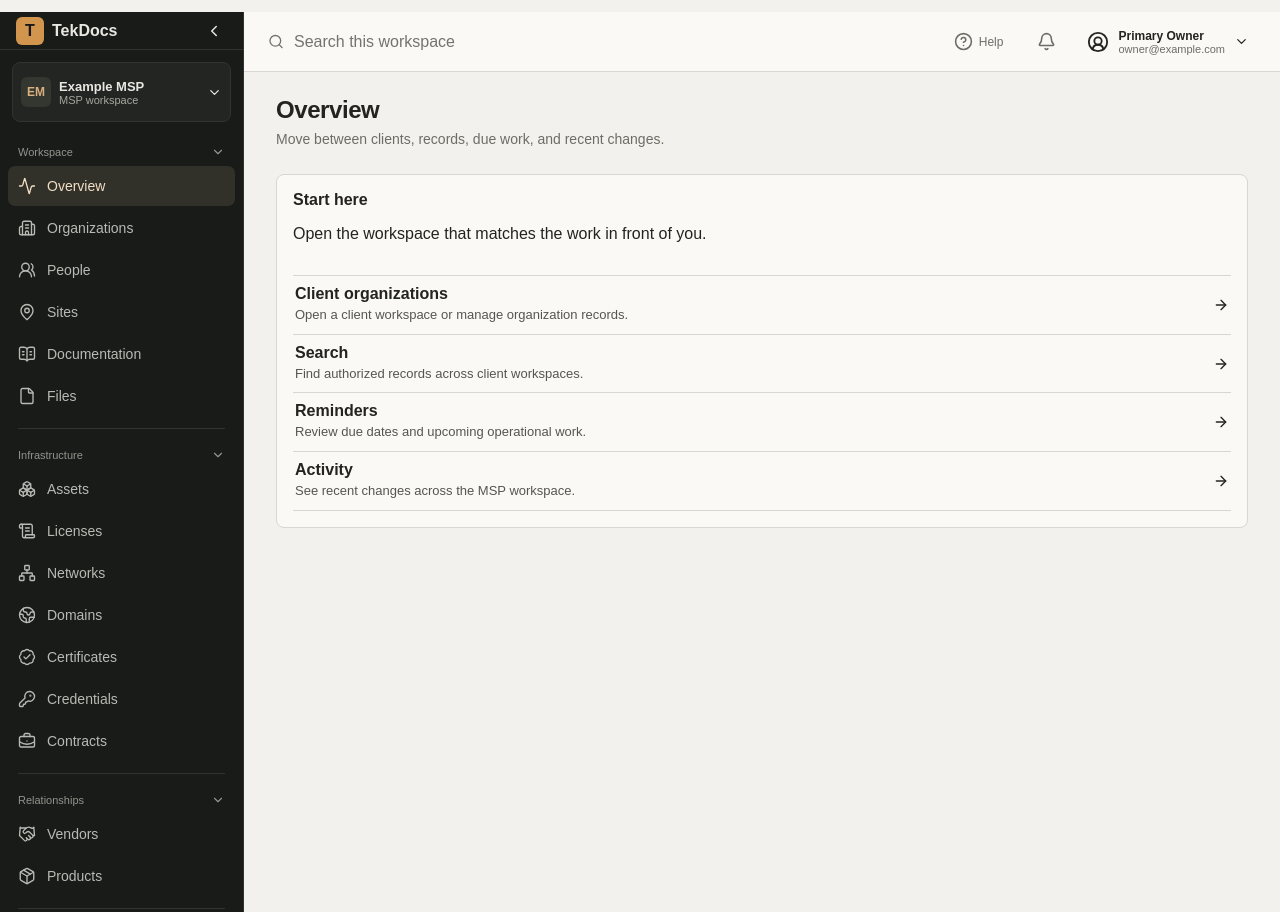
Test case: application shell › opens owner staff administration from the profile menu
The width and height of the screenshot is (1280, 912).
Click the button with aria-label "Account menu for Primary Owner".
click(1168, 42)  # box 1080,24 -> 1256,60
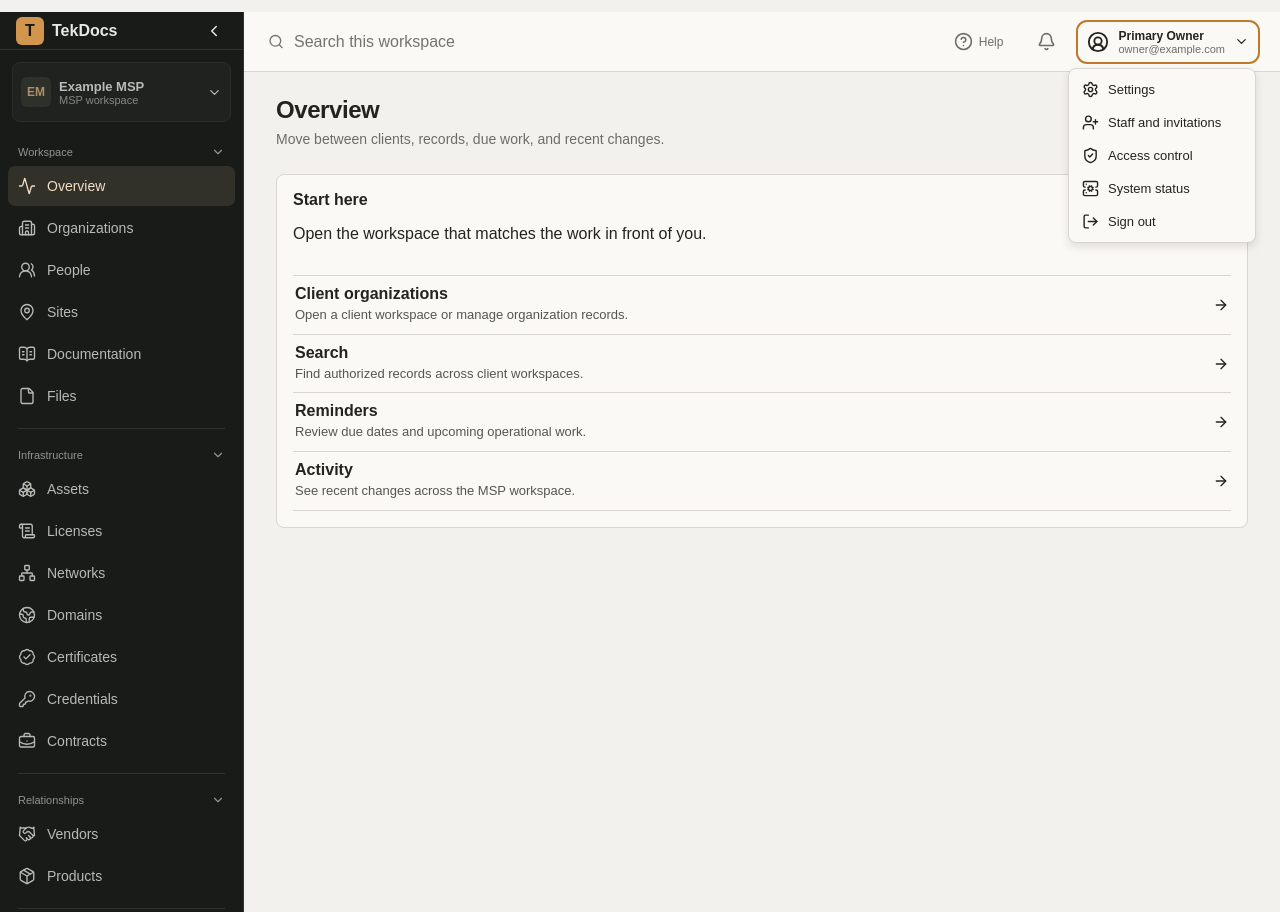
Click the menu item "Staff and invitations".
click(1152, 122)  # box 1082,114 -> 1221,130
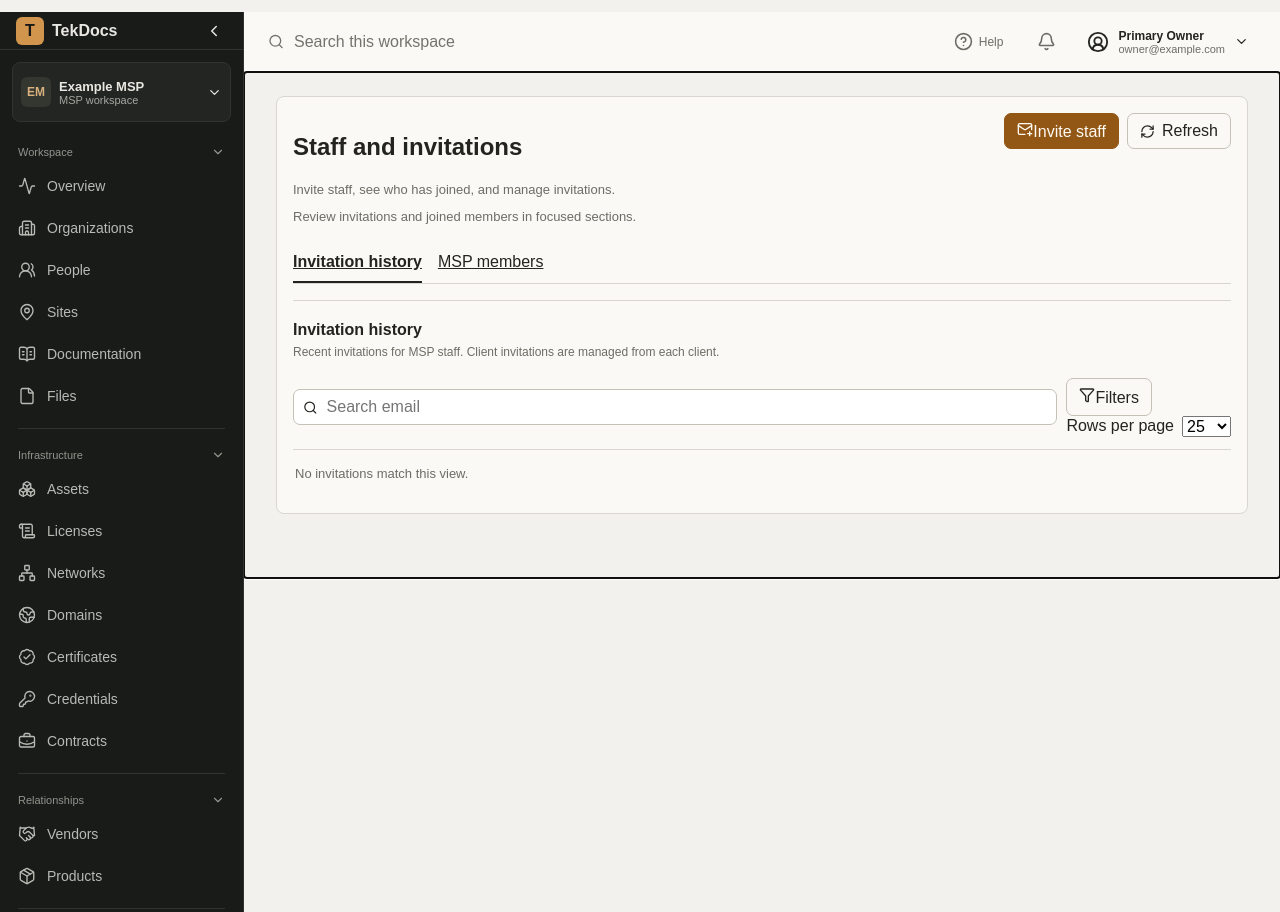
Check: the heading "Staff and invitations" is shown, box 293,133 -> 522,160
Check: the text "No invitations match this view." is shown, box 293,449 -> 1231,497
